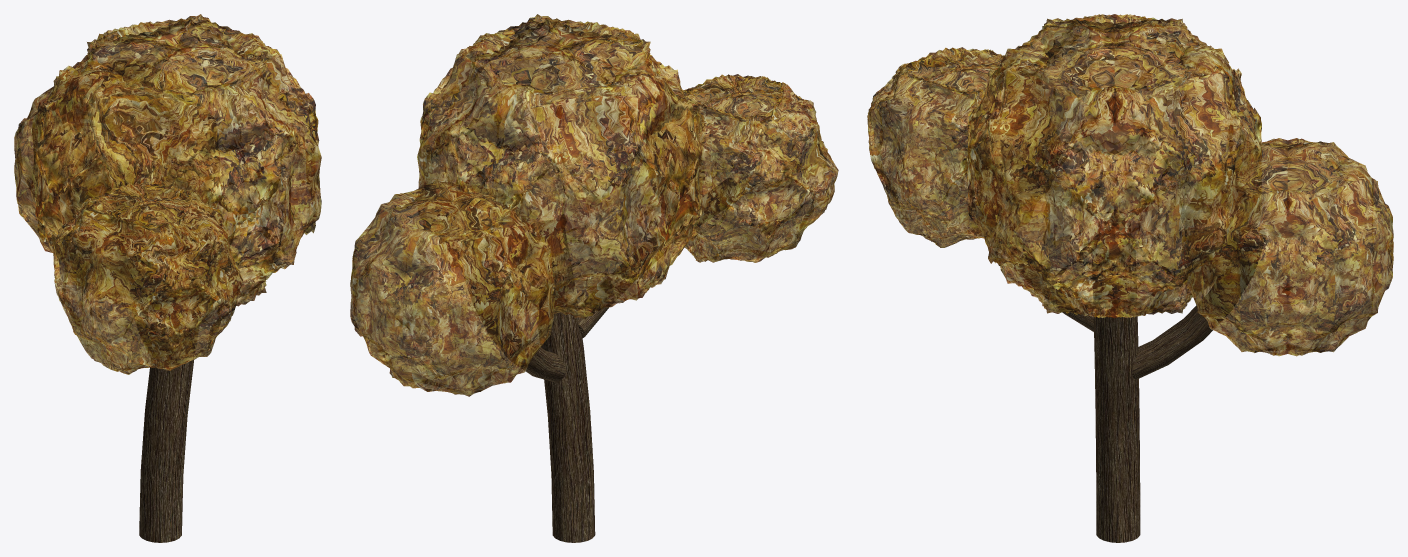
Rendered from baum3.DAE.
3 views of the same model, side by side, from view 1: azimuth 30°, elevation 25°; view 2: azimuth 150°, elevation 25°; view 3: azimuth 270°, elevation 25° (orthographic). The views are drawn at different scales.
Visible parts, largest first — view 1: Geosph_re002, Geosph_re001, Geosph_re003, Zylinder001, Zylinder003; view 2: Geosph_re002, Geosph_re003, Geosph_re001, Zylinder001, Zylinder002, Zylinder003; view 3: Geosph_re002, Geosph_re003, Geosph_re001, Zylinder001, Zylinder002.
Part boxes in pixels (x1,y1,x2,y2): Geosph_re002: (31, 14, 321, 306); Geosph_re001: (53, 182, 242, 374); Geosph_re003: (14, 76, 217, 252); Zylinder001: (139, 360, 193, 542); Zylinder003: (130, 278, 182, 320); Geosph_re002: (417, 14, 705, 319); Geosph_re003: (350, 180, 555, 396); Geosph_re001: (646, 74, 838, 262); Zylinder001: (536, 220, 595, 542); Zylinder002: (461, 260, 566, 381); Zylinder003: (577, 178, 741, 338); Geosph_re002: (967, 14, 1262, 318); Geosph_re003: (1182, 138, 1393, 356); Geosph_re001: (867, 47, 1062, 247); Zylinder001: (1092, 231, 1140, 542); Zylinder002: (1132, 226, 1266, 379).
Size of the model in its own units: 58.11 by 82.54 by 87.33.
